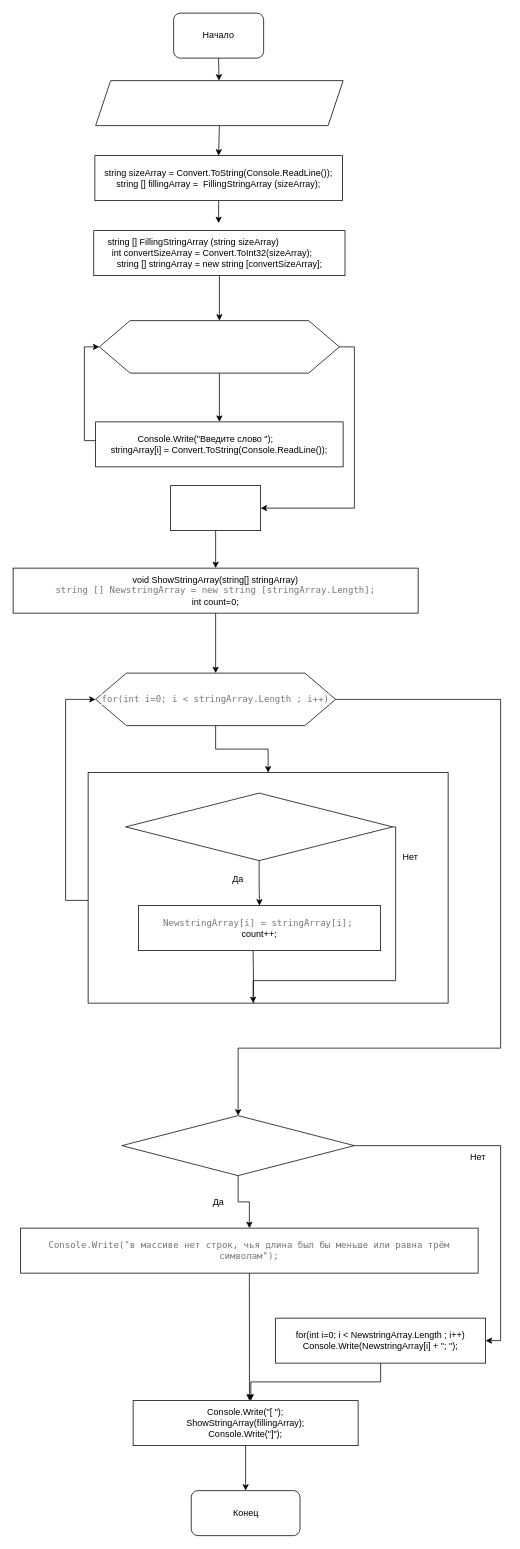
Image size: 520x1549. Some labels were removed from this diagram. The centre of each missing label's shape, as x and y in pixels:
Console.Write("Введите размер массива ");: point 219,103
for (int i=0; i < convertSizeArray ; i++): point 219,346
if (count == 0): point 237,1145
if (stringArray[i].Length <= 3): point 259,826
return stringArray;: point 215,508
